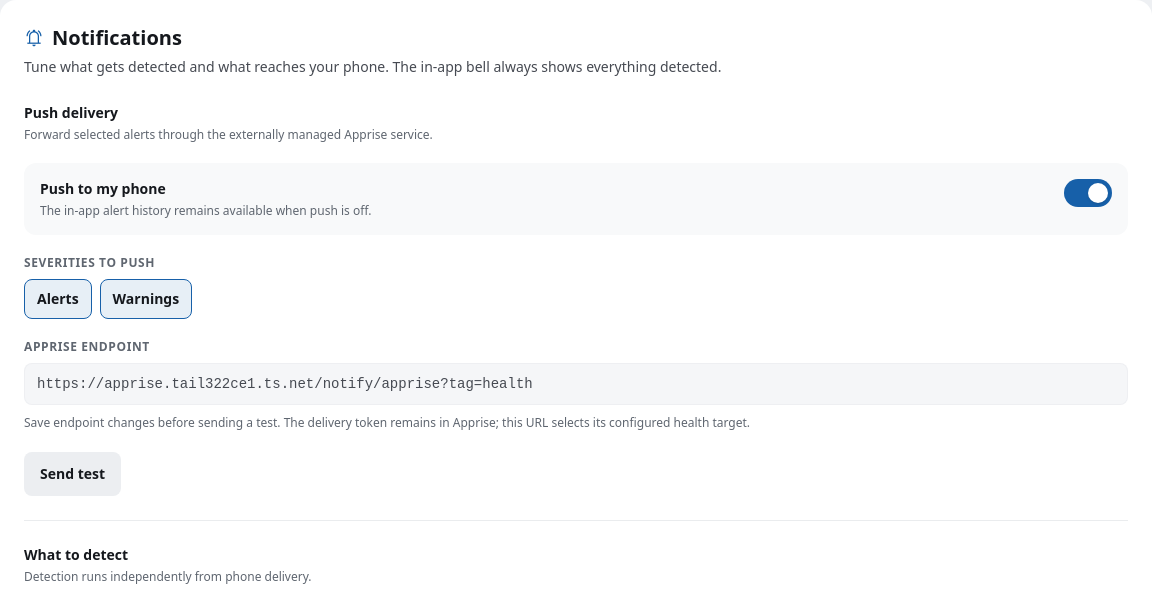
NotificationSettingsCard › validates the endpoint and blocks both Save and Send test for a dirty URL
Replace the text in the field labelled "Apprise endpoint" with "not-a-url" at [576, 384], box left=24, top=363, right=1128, bottom=405
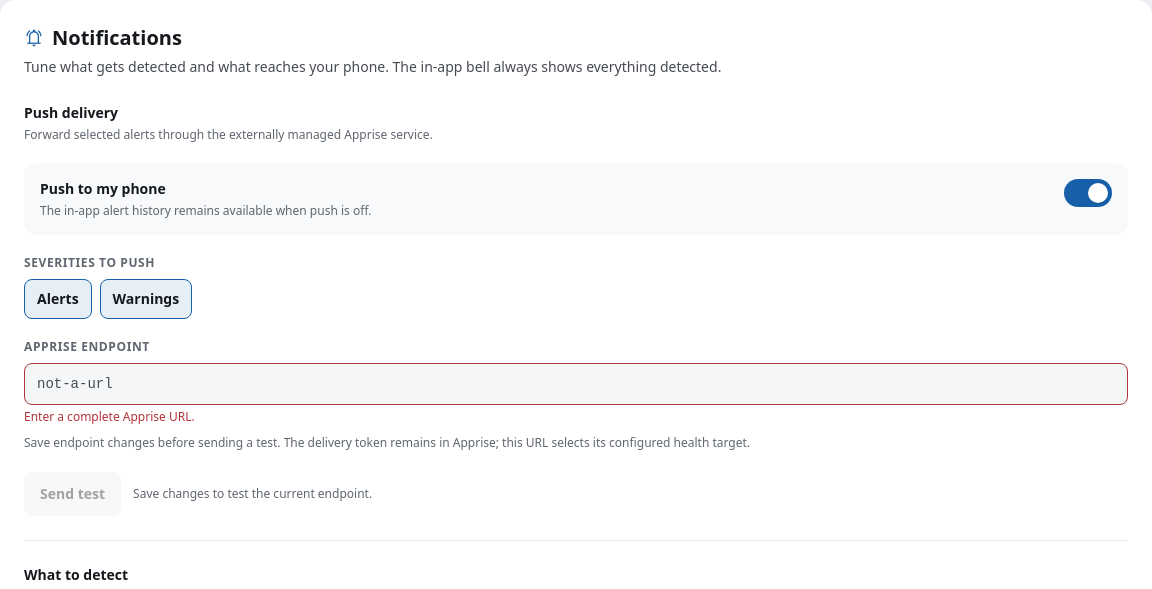
Check: the text "Enter a complete Apprise URL." is shown, box left=24, top=408, right=195, bottom=425
Check: the button with test id "notif-test" is disabled, box left=24, top=472, right=121, bottom=516
